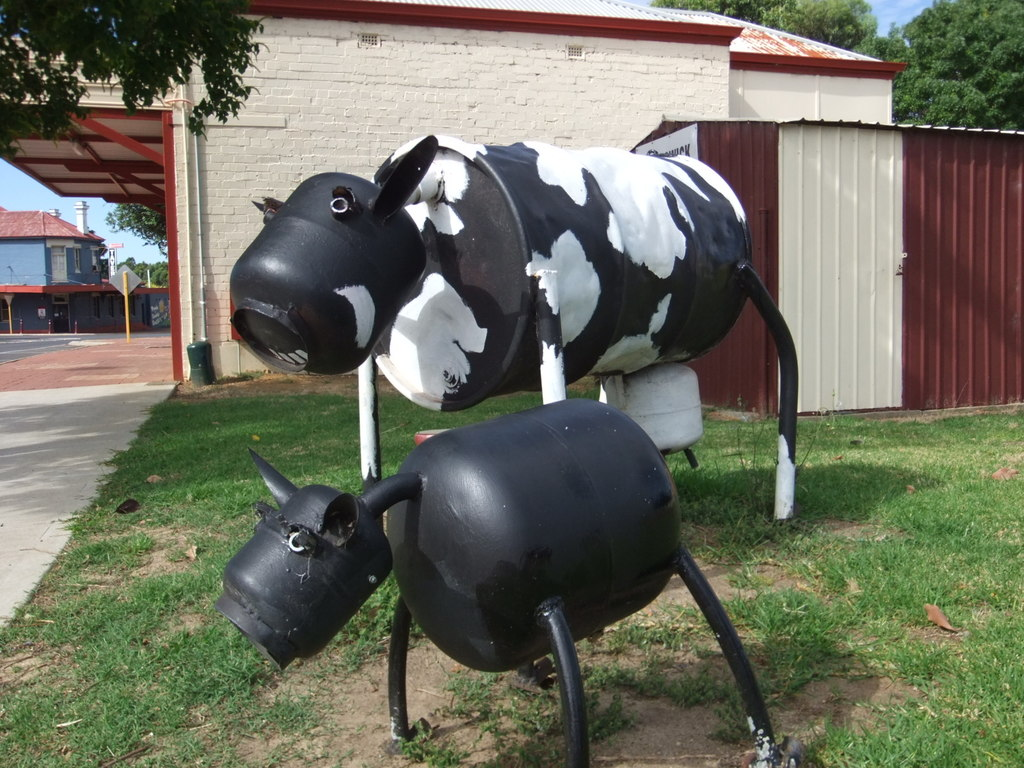Animal: (226, 130, 793, 520), (209, 400, 783, 767)
